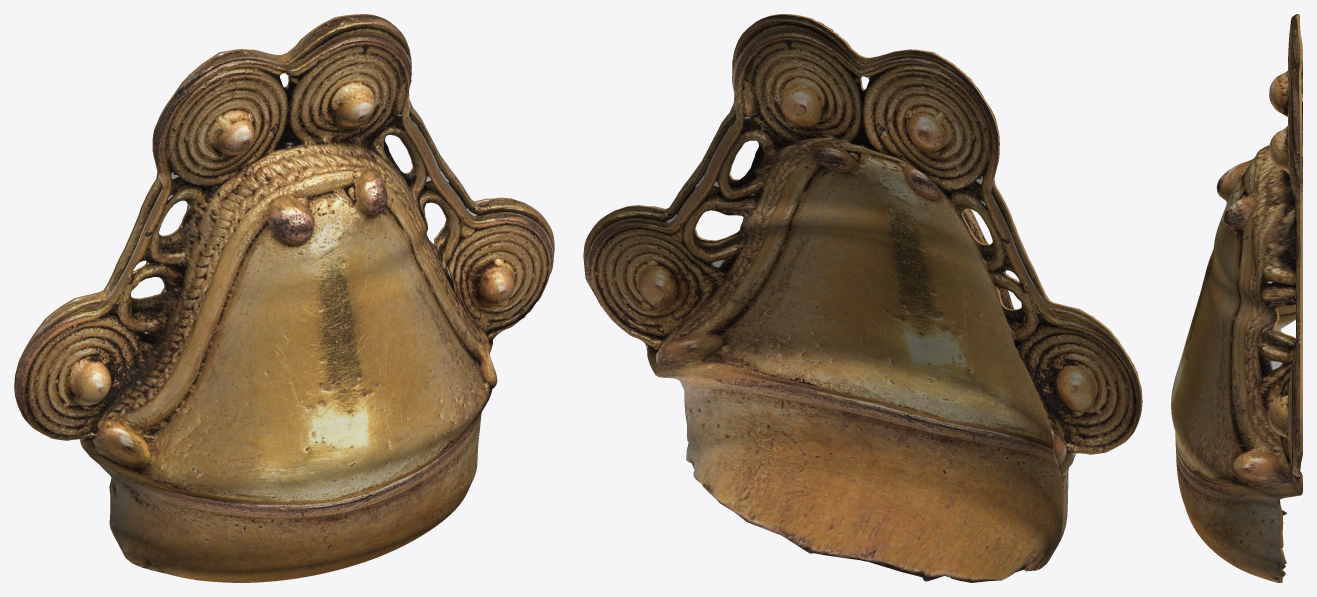
File: tapa_de_labret.glb
3 views of the same model, side by side, from view 1: azimuth 30°, elevation 25°; view 2: azimuth 150°, elevation 25°; view 3: azimuth 270°, elevation 25° (orthographic). The views are drawn at different scales.
Visible parts, largest first — view 1: tapa_de_labret; view 2: tapa_de_labret; view 3: tapa_de_labret.
Boxes of the visible parts, <box> form: tapa_de_labret: <box>14,14,554,582</box>; tapa_de_labret: <box>583,14,1142,582</box>; tapa_de_labret: <box>1171,14,1302,582</box>.
Bounding box in the file's own units: 7.25 × 6.77 × 1.62.
1 material, 1 textured.
